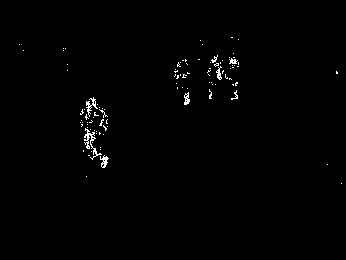person: (79, 96, 112, 169)
